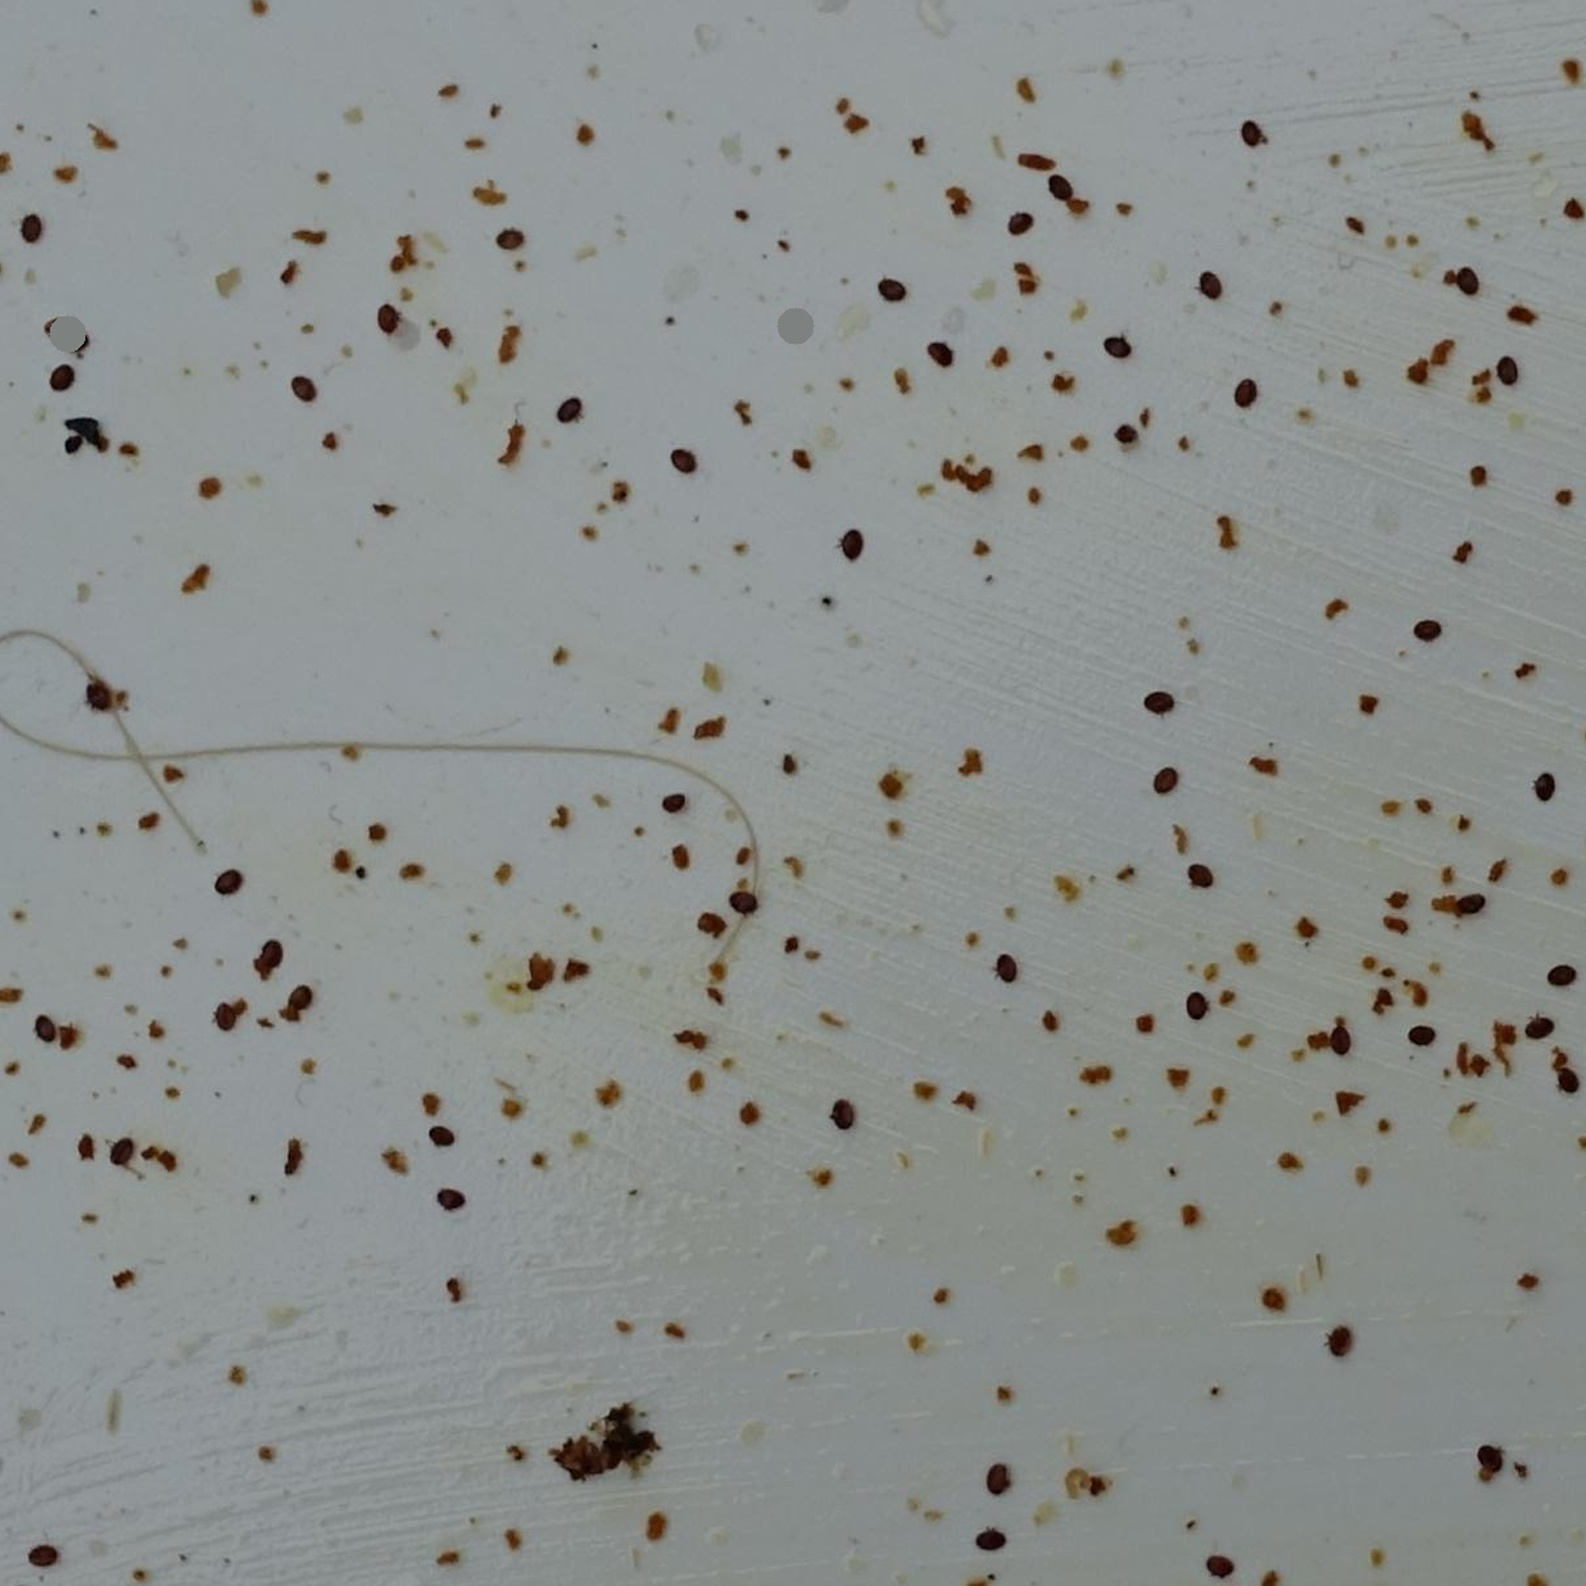Varroa: (1325, 1326, 1352, 1354), (1243, 122, 1272, 148), (1455, 269, 1483, 295), (1545, 961, 1573, 988), (60, 363, 86, 391), (556, 396, 582, 423), (112, 1134, 138, 1160), (1108, 333, 1134, 357), (86, 683, 112, 707), (257, 940, 283, 964), (1494, 362, 1521, 386), (213, 1001, 240, 1025), (439, 1184, 463, 1208), (1232, 381, 1256, 405), (1182, 993, 1205, 1020), (1479, 1442, 1503, 1465), (17, 218, 41, 243), (1455, 890, 1479, 915), (1327, 1025, 1349, 1052), (293, 373, 317, 396), (290, 988, 314, 1011), (674, 449, 696, 473), (883, 274, 906, 296), (1558, 1067, 1580, 1091), (1192, 861, 1213, 886), (36, 1015, 58, 1037), (837, 1099, 858, 1121), (1155, 770, 1176, 792), (931, 343, 953, 365), (503, 224, 521, 248), (1210, 1553, 1230, 1574), (218, 869, 238, 890), (1008, 208, 1028, 229), (733, 887, 752, 911), (1419, 619, 1438, 639), (842, 530, 863, 549), (1535, 776, 1555, 794), (30, 1547, 46, 1561), (979, 1531, 995, 1545), (431, 1128, 446, 1144), (670, 796, 683, 810), (1155, 690, 1168, 704), (995, 1470, 1008, 1484), (48, 372, 62, 385), (1537, 1020, 1551, 1033), (1204, 274, 1217, 288), (1057, 182, 1070, 195), (383, 309, 395, 322), (996, 964, 1008, 977), (1412, 1030, 1423, 1041), (1009, 961, 1020, 975)
